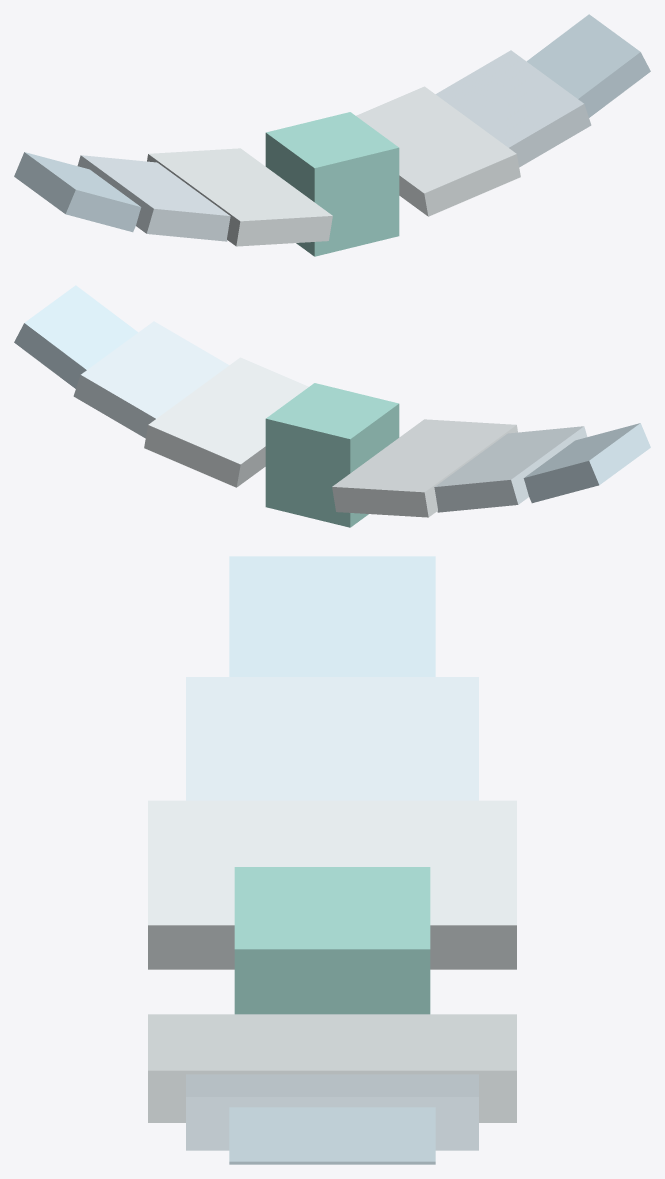
Rendered from AirBoost.fbx.
3 views of the same model, one above another, from view 1: azimuth 30°, elevation 25°; view 2: azimuth 150°, elevation 25°; view 3: azimuth 270°, elevation 25° (orthographic). The views are drawn at different scales.
Visible parts, largest first — view 1: Wing_Core, Wing_Feather, Wing_Feather.003, Wing_Feather.001, Wing_Feather.002, Wing_Feather.004, Wing_Feather.005; view 2: Wing_Core, Wing_Feather, Wing_Feather.003, Wing_Feather.001, Wing_Feather.002, Wing_Feather.004, Wing_Feather.005; view 3: Wing_Feather.003, Wing_Feather.004, Wing_Core, Wing_Feather, Wing_Feather.005, Wing_Feather.001, Wing_Feather.002.
Boxes of the visible parts, x1=… form: Wing_Core: x1=265, y1=112, x2=399, y2=256; Wing_Feather: x1=356, y1=86, x2=520, y2=216; Wing_Feather.003: x1=147, y1=148, x2=332, y2=246; Wing_Feather.001: x1=435, y1=50, x2=591, y2=167; Wing_Feather.002: x1=527, y1=14, x2=650, y2=117; Wing_Feather.004: x1=77, y1=155, x2=230, y2=241; Wing_Feather.005: x1=14, y1=152, x2=141, y2=232; Wing_Core: x1=265, y1=383, x2=399, y2=527; Wing_Feather: x1=144, y1=357, x2=308, y2=487; Wing_Feather.003: x1=332, y1=419, x2=517, y2=517; Wing_Feather.001: x1=73, y1=321, x2=229, y2=438; Wing_Feather.002: x1=14, y1=285, x2=137, y2=388; Wing_Feather.004: x1=434, y1=426, x2=587, y2=512; Wing_Feather.005: x1=523, y1=423, x2=650, y2=503; Wing_Feather.003: x1=148, y1=800, x2=516, y2=969; Wing_Feather.004: x1=186, y1=677, x2=478, y2=800; Wing_Core: x1=234, y1=867, x2=430, y2=1014; Wing_Feather: x1=148, y1=1014, x2=516, y2=1122; Wing_Feather.005: x1=229, y1=556, x2=435, y2=676; Wing_Feather.001: x1=186, y1=1074, x2=478, y2=1150; Wing_Feather.002: x1=229, y1=1107, x2=435, y2=1164.
Bounding box in the file's own units: 174 × 36.06 × 47.6.
